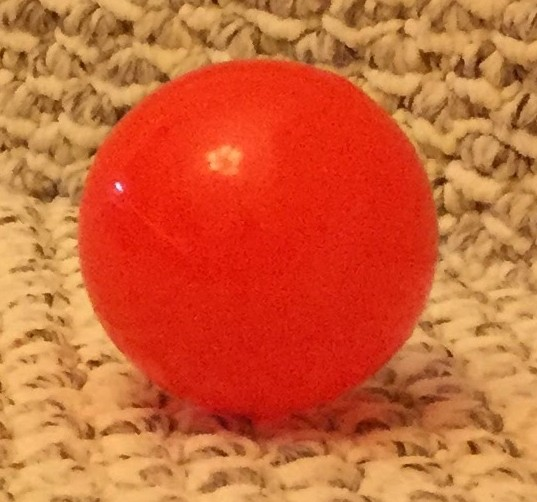Ball: (75, 62, 442, 418)
